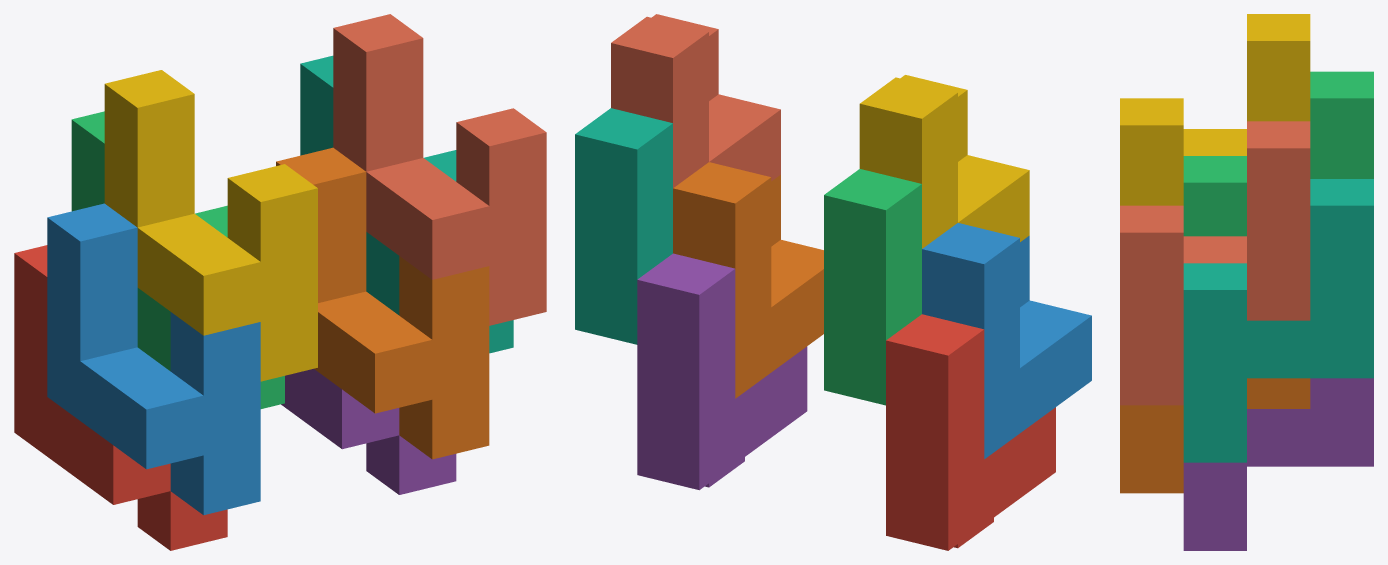
The model's file is tiling.obj.
3 renders of one model, left to right at view 1: azimuth 30°, elevation 25°; view 2: azimuth 150°, elevation 25°; view 3: azimuth 270°, elevation 25°, orthographic. The views are drawn at different scales.
Visible parts, largest first — view 1: copy_1_domain_2, copy_1_domain_8, copy_1_domain_4, copy_1_domain_6, copy_1_domain_1, copy_1_domain_5, copy_1_domain_7, copy_1_domain_3; view 2: copy_1_domain_5, copy_1_domain_1, copy_1_domain_2, copy_1_domain_6, copy_1_domain_7, copy_1_domain_3, copy_1_domain_4, copy_1_domain_8; view 3: copy_1_domain_7, copy_1_domain_8, copy_1_domain_4, copy_1_domain_5, copy_1_domain_3, copy_1_domain_6.
Part boxes in pixels (bbox=[...]): copy_1_domain_2: bbox=[47, 203, 260, 515]; copy_1_domain_8: bbox=[333, 14, 546, 325]; copy_1_domain_4: bbox=[104, 70, 317, 381]; copy_1_domain_6: bbox=[276, 147, 489, 459]; copy_1_domain_1: bbox=[14, 245, 227, 550]; copy_1_domain_5: bbox=[281, 368, 456, 494]; copy_1_domain_7: bbox=[300, 55, 513, 353]; copy_1_domain_3: bbox=[71, 111, 284, 408]; copy_1_domain_5: bbox=[637, 253, 807, 490]; copy_1_domain_1: bbox=[886, 314, 1055, 550]; copy_1_domain_2: bbox=[922, 223, 1091, 458]; copy_1_domain_6: bbox=[673, 162, 823, 398]; copy_1_domain_7: bbox=[575, 108, 672, 344]; copy_1_domain_3: bbox=[824, 169, 921, 405]; copy_1_domain_4: bbox=[859, 75, 1029, 248]; copy_1_domain_8: bbox=[611, 14, 780, 187]; copy_1_domain_7: bbox=[1183, 179, 1373, 462]; copy_1_domain_8: bbox=[1120, 121, 1310, 405]; copy_1_domain_4: bbox=[1120, 14, 1310, 205]; copy_1_domain_5: bbox=[1183, 378, 1373, 550]; copy_1_domain_3: bbox=[1183, 71, 1373, 236]; copy_1_domain_6: bbox=[1120, 378, 1310, 493].
Size of the model in its own units: 7 by 7 by 4.
